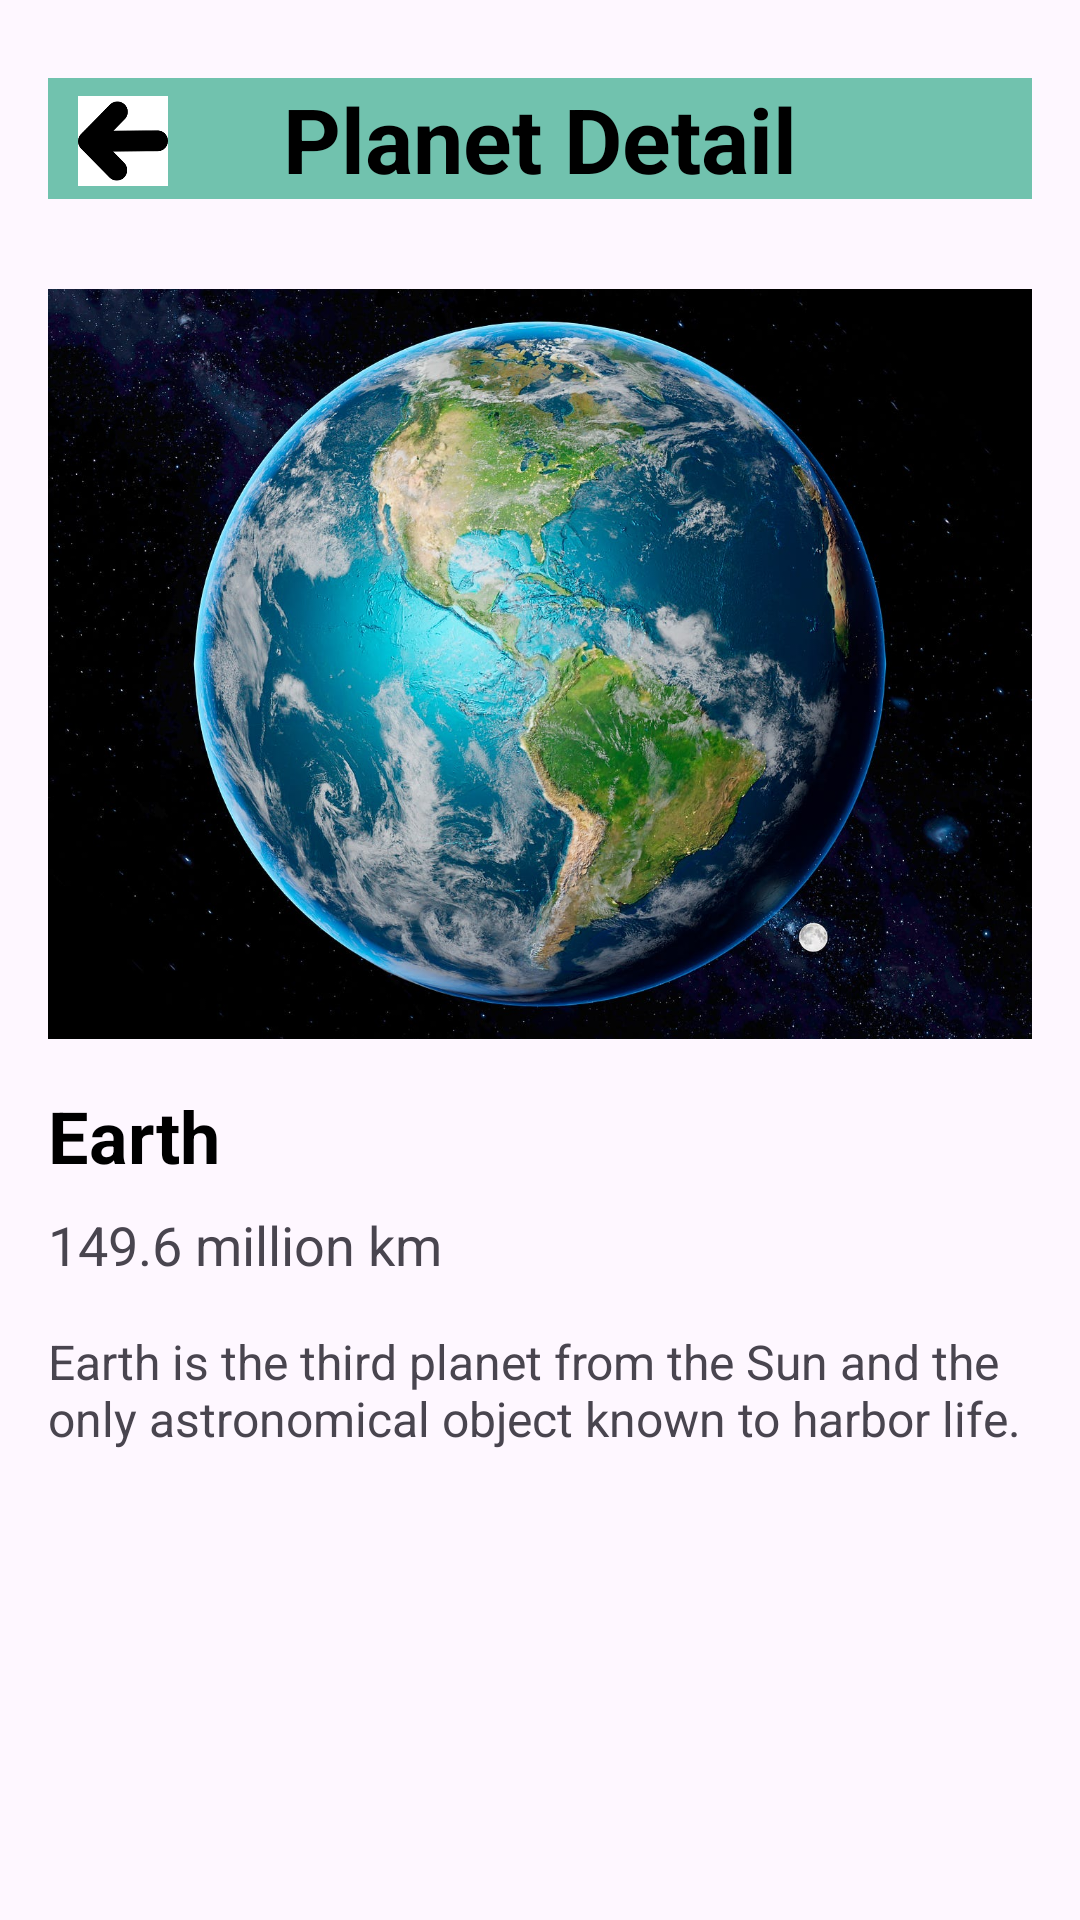

Named icons in this screenshot (1080px×1920px) and their bounding boxes, detection(x1, y1, x2, y2):
back: detection(78, 96, 168, 186)
